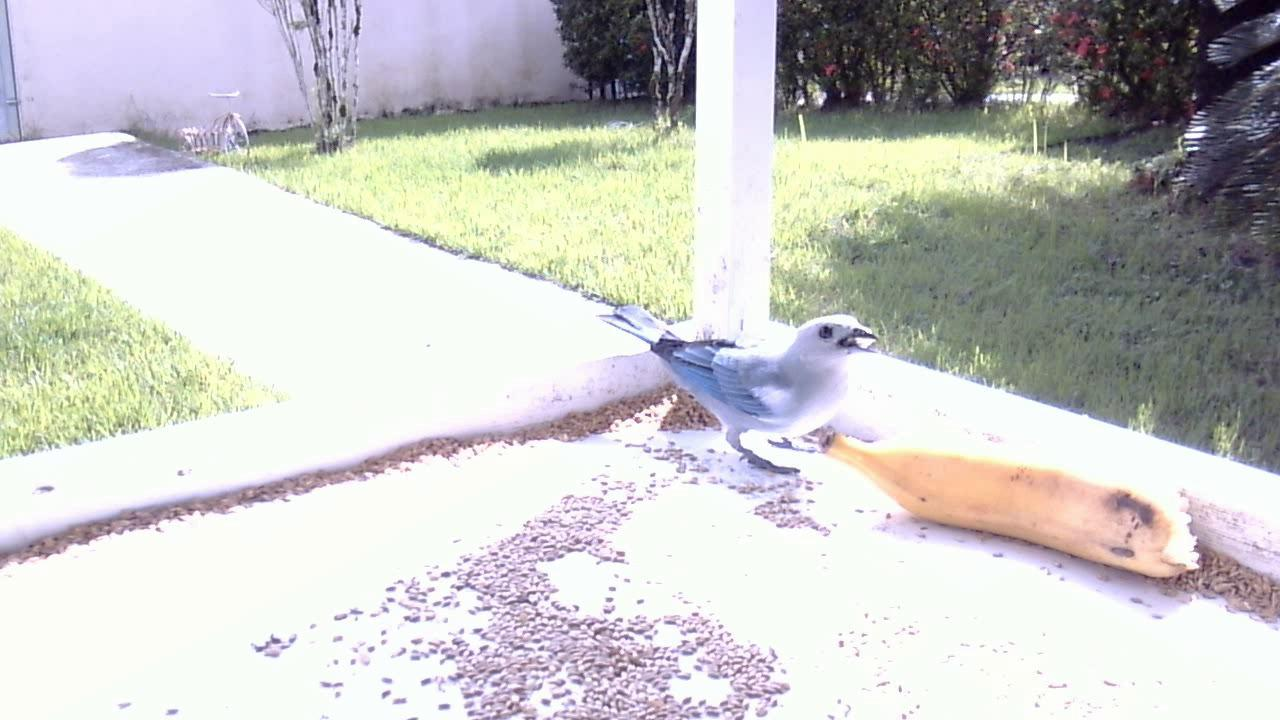sanhaco_da_amazonia: (594, 297, 884, 486)
